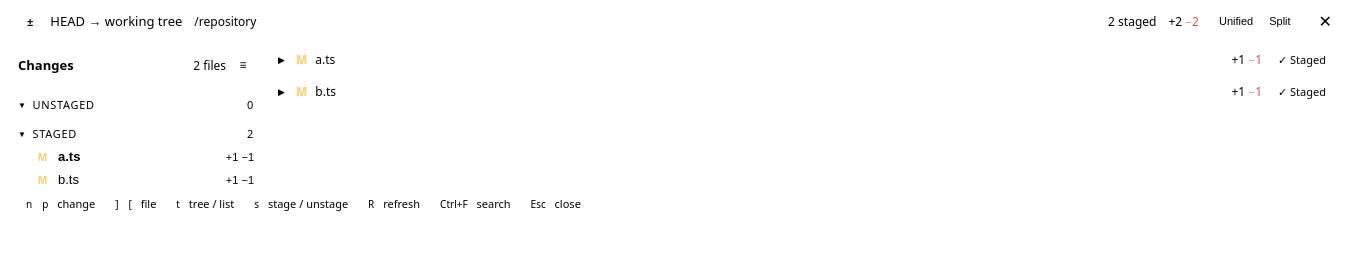
Test case: DiffView overview ruler measurement › a staged (collapsed) file's marks anchor at its header, since nothing else is rendered
Expected: the number of elements with class "diff-file" is 2, [278,50,1334,68]; [278,82,1334,100]
Press f
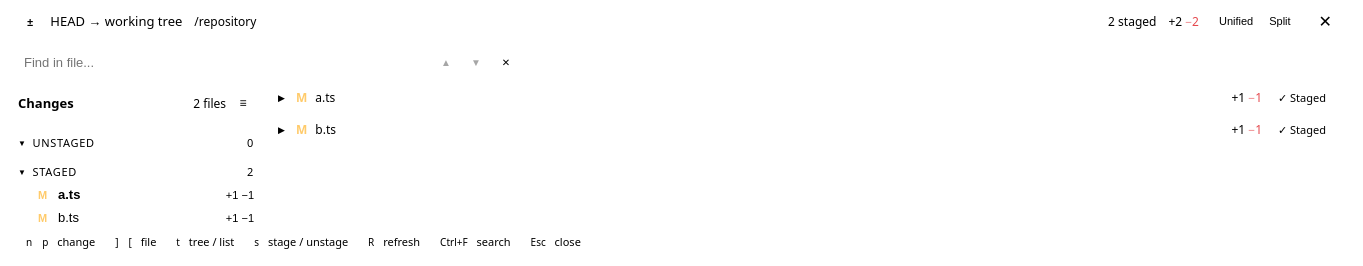
Type "needle" into the field with class "search-input".
click(184, 62); type("needle")  # box [16,48,352,76]
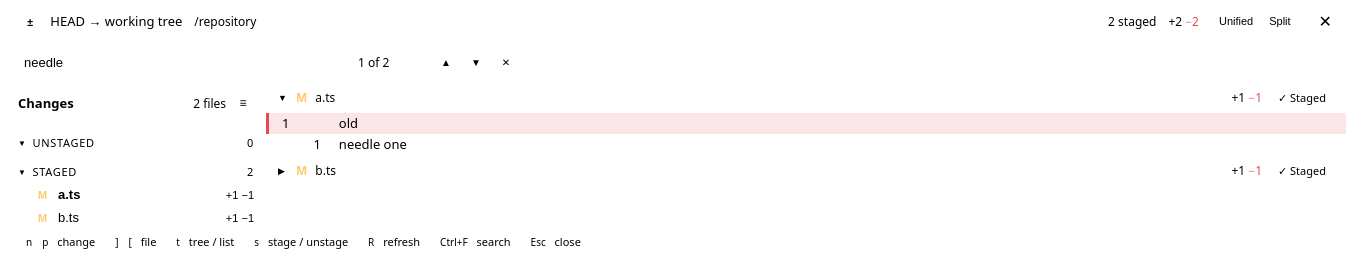
Expected: the text "1 of 2" is shown, [358,54,389,70]
Expected: the number of elements with class "diff-root" is 1, [266,113,1346,155]
